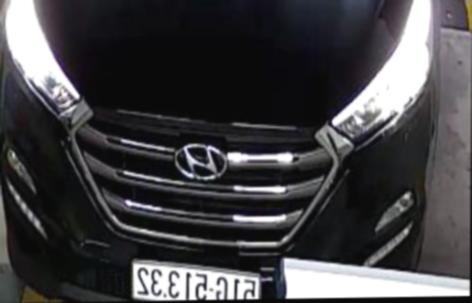License_Plate: (126, 258, 268, 300)
